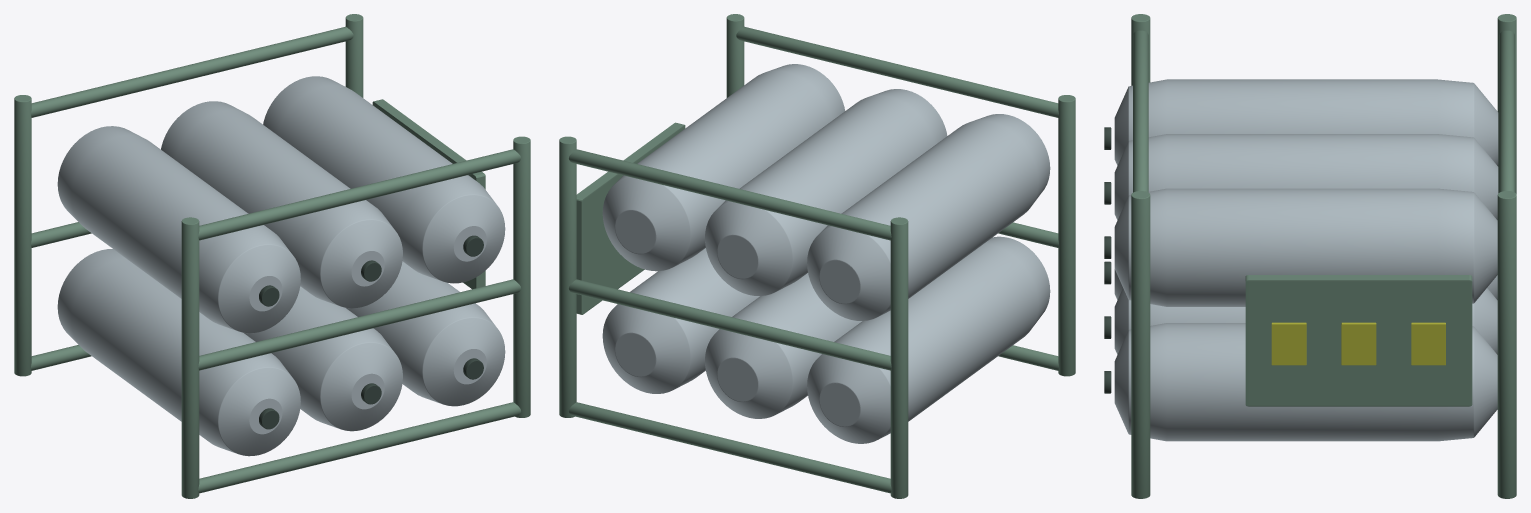
3 views of the same model, side by side, from view 1: azimuth 30°, elevation 25°; view 2: azimuth 150°, elevation 25°; view 3: azimuth 270°, elevation 25° (orthographic). The views are drawn at different scales.
Parts seen in each view (by area): view 1: TI052 / individual horizontal water tank.003, TI052 / individual horizontal water tank, TI052 / individual horizontal water tank.005, TI052 / individual horizontal water tank.004, TI052 / individual horizontal water tank.001, TI052 / individual horizontal water tank.002, TI052 / rack upright, TI052 / rack upright.001, TI052 / rack horizontal brace.005, TI052 / rack horizontal brace, TI052 / rack horizontal brace.002, TI052 / rack horizontal brace.004 (+5 smaller); view 2: TI052 / individual horizontal water tank.003, TI052 / individual horizontal water tank, TI052 / individual horizontal water tank.005, TI052 / individual horizontal water tank.004, TI052 / individual horizontal water tank.001, TI052 / individual horizontal water tank.002, TI052 / rack upright.001, TI052 / cargo instruction plate, TI052 / rack upright, TI052 / rack horizontal brace.004, TI052 / rack horizontal brace.001, TI052 / rack horizontal brace.003 (+5 smaller); view 3: TI052 / individual horizontal water tank.005, TI052 / cargo instruction plate, TI052 / individual horizontal water tank.002, TI052 / individual horizontal water tank.003, TI052 / individual horizontal water tank.004, TI052 / rack upright.002, TI052 / rack upright.003, TI052 / individual horizontal water tank.001, TI052 / rack horizontal brace.004, TI052 / rack horizontal brace.005, TI052 / yellow cargo pictogram, TI052 / yellow cargo pictogram.001 (+3 smaller).
Boxes of the visible parts, <box> form: TI052 / individual horizontal water tank.003: <box>57,126,300,333</box>; TI052 / individual horizontal water tank: <box>57,249,300,456</box>; TI052 / individual horizontal water tank.005: <box>263,76,505,283</box>; TI052 / individual horizontal water tank.004: <box>161,101,402,308</box>; TI052 / individual horizontal water tank.001: <box>244,286,402,431</box>; TI052 / individual horizontal water tank.002: <box>346,261,505,406</box>; TI052 / rack upright: <box>181,217,199,498</box>; TI052 / rack upright.001: <box>14,95,31,376</box>; TI052 / rack horizontal brace.005: <box>31,26,353,117</box>; TI052 / rack horizontal brace: <box>198,402,520,493</box>; TI052 / rack horizontal brace.002: <box>198,279,520,370</box>; TI052 / rack horizontal brace.004: <box>198,149,520,240</box>; TI052 / individual horizontal water tank.003: <box>807,114,1050,320</box>; TI052 / individual horizontal water tank: <box>807,236,1050,443</box>; TI052 / individual horizontal water tank.005: <box>602,64,844,271</box>; TI052 / individual horizontal water tank.004: <box>705,89,947,296</box>; TI052 / individual horizontal water tank.001: <box>705,273,862,418</box>; TI052 / individual horizontal water tank.002: <box>602,248,759,393</box>; TI052 / rack upright.001: <box>890,217,908,498</box>; TI052 / cargo instruction plate: <box>576,122,685,314</box>; TI052 / rack upright: <box>1058,95,1075,376</box>; TI052 / rack horizontal brace.004: <box>736,26,1058,117</box>; TI052 / rack horizontal brace.001: <box>569,402,891,493</box>; TI052 / rack horizontal brace.003: <box>569,279,891,370</box>; TI052 / individual horizontal water tank.005: <box>1114,188,1497,306</box>; TI052 / cargo instruction plate: <box>1245,275,1472,406</box>; TI052 / individual horizontal water tank.002: <box>1114,323,1497,441</box>; TI052 / individual horizontal water tank.003: <box>1114,79,1498,165</box>; TI052 / individual horizontal water tank.004: <box>1114,134,1498,220</box>; TI052 / rack upright.002: <box>1131,191,1150,498</box>; TI052 / rack upright.003: <box>1497,191,1516,498</box>; TI052 / individual horizontal water tank.001: <box>1114,288,1497,354</box>; TI052 / rack horizontal brace.004: <box>1133,30,1148,192</box>; TI052 / rack horizontal brace.005: <box>1499,30,1514,192</box>; TI052 / yellow cargo pictogram: <box>1271,322,1306,365</box>; TI052 / yellow cargo pictogram.001: <box>1341,322,1376,365</box>.
Bounding box in the file's own units: 2.56 × 1.9 × 2.36.
